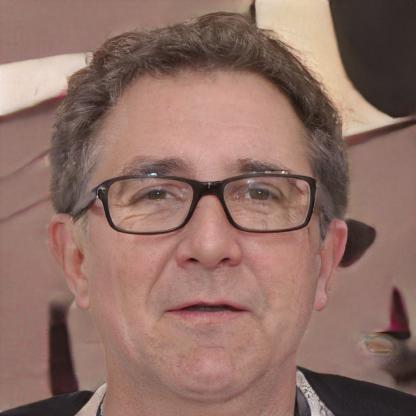glasses: (86, 169, 321, 237)
